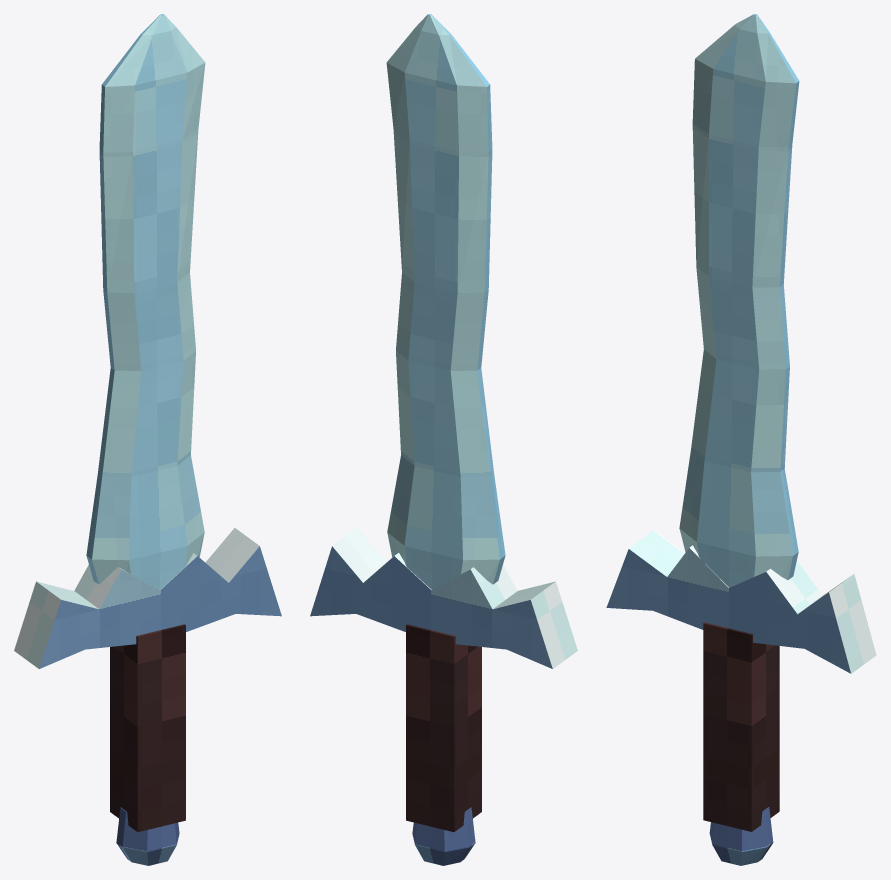
Rendered from cutout.obj.
3 views of the same model, side by side, from view 1: azimuth 30°, elevation 25°; view 2: azimuth 150°, elevation 25°; view 3: azimuth 330°, elevation 25° (orthographic).
Size of the model in its own units: 0.7563 by 2.49 by 0.1526.
